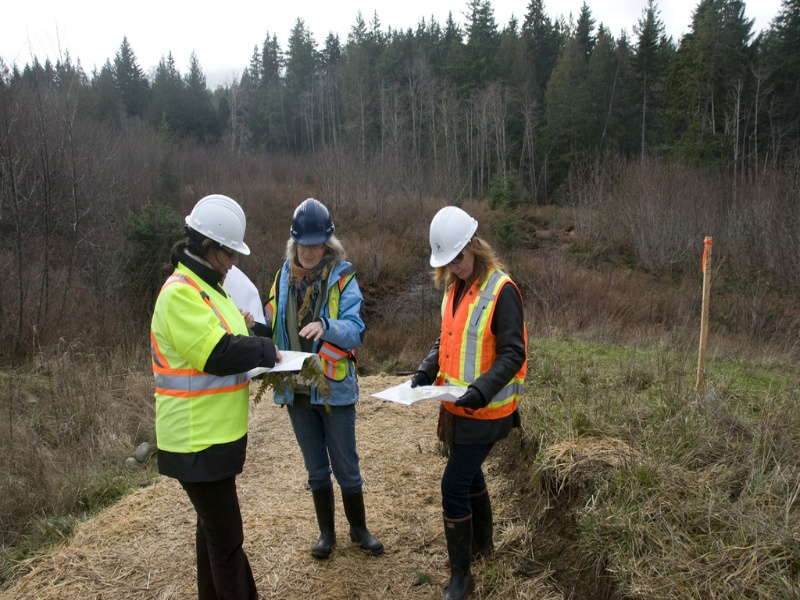person: (152, 184, 273, 597), (404, 200, 518, 585), (278, 194, 381, 555)
